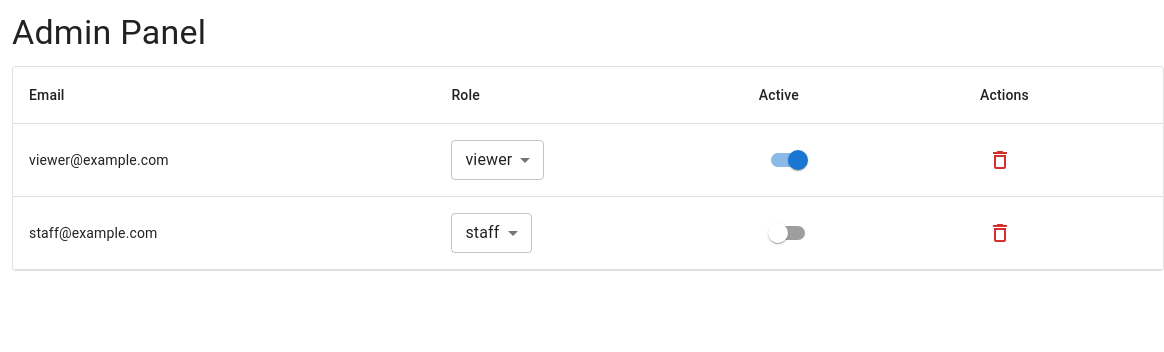
Test case: AdminPage › shows an error message when updating status fails
Click the switch named "staff@example.com active" at (778, 233), box [768,223,788,243]
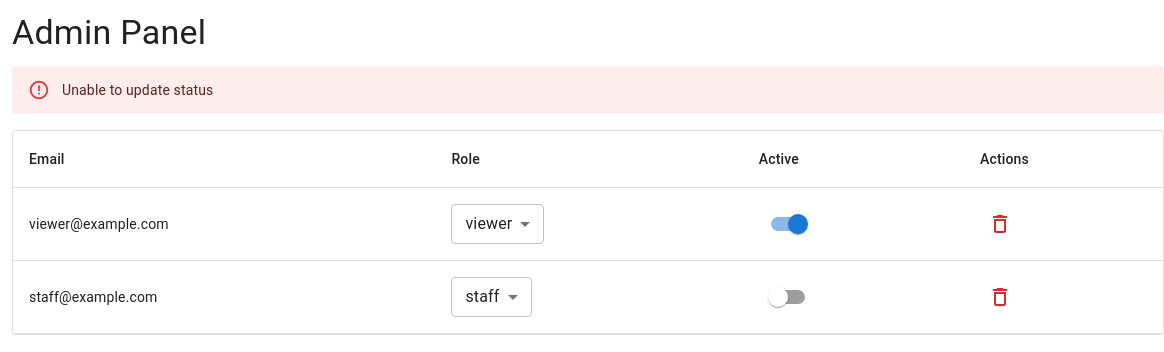
Result: the text "Unable to update status" is shown at [62,82,214,98]
